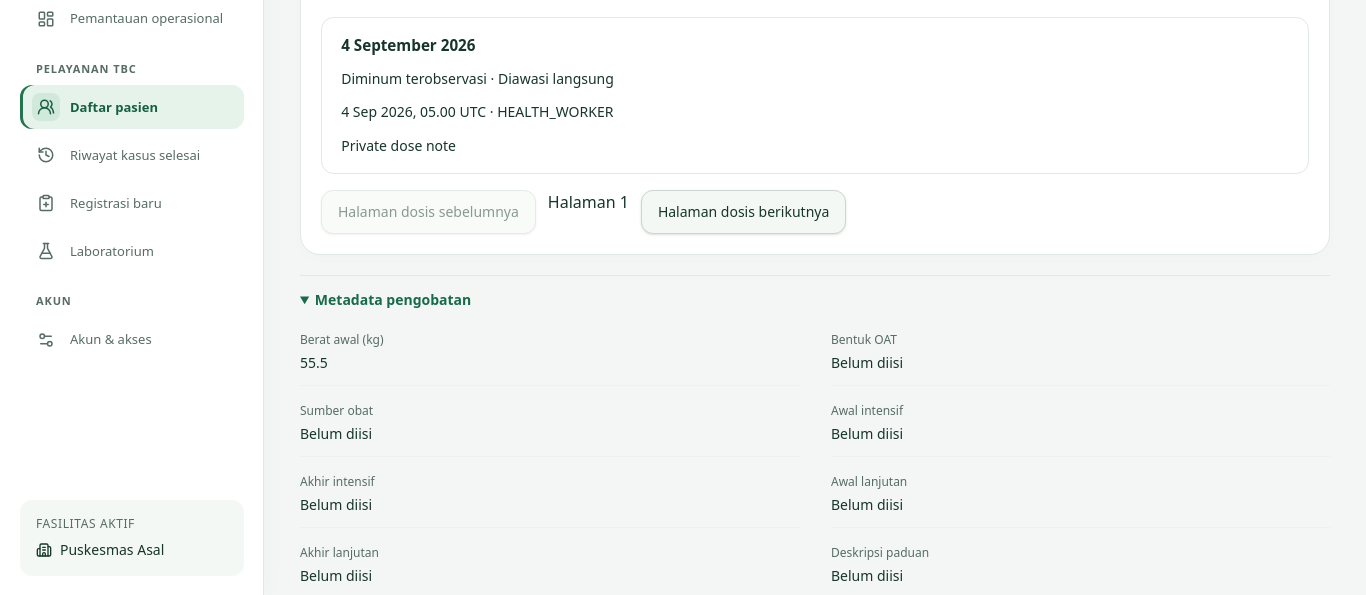
Scenario: retains a route back when dose totals shrink on a later page
(page scrolled)
Click the button "Halaman dosis berikutnya" at coordinates (744, 212), box x1=641 y1=190 x2=846 y2=234
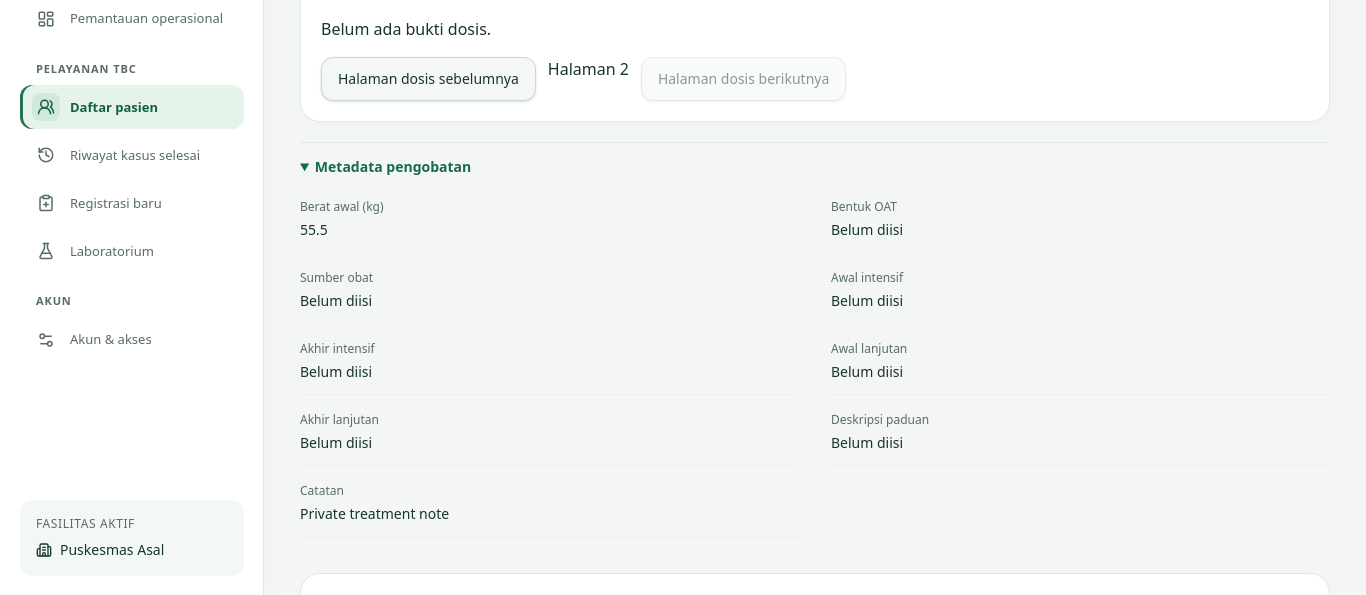
Expected: the text "Belum ada bukti dosis." is shown, x1=321 y1=18 x2=491 y2=40
Expected: the button "Halaman dosis sebelumnya" is enabled, x1=321 y1=57 x2=536 y2=101
